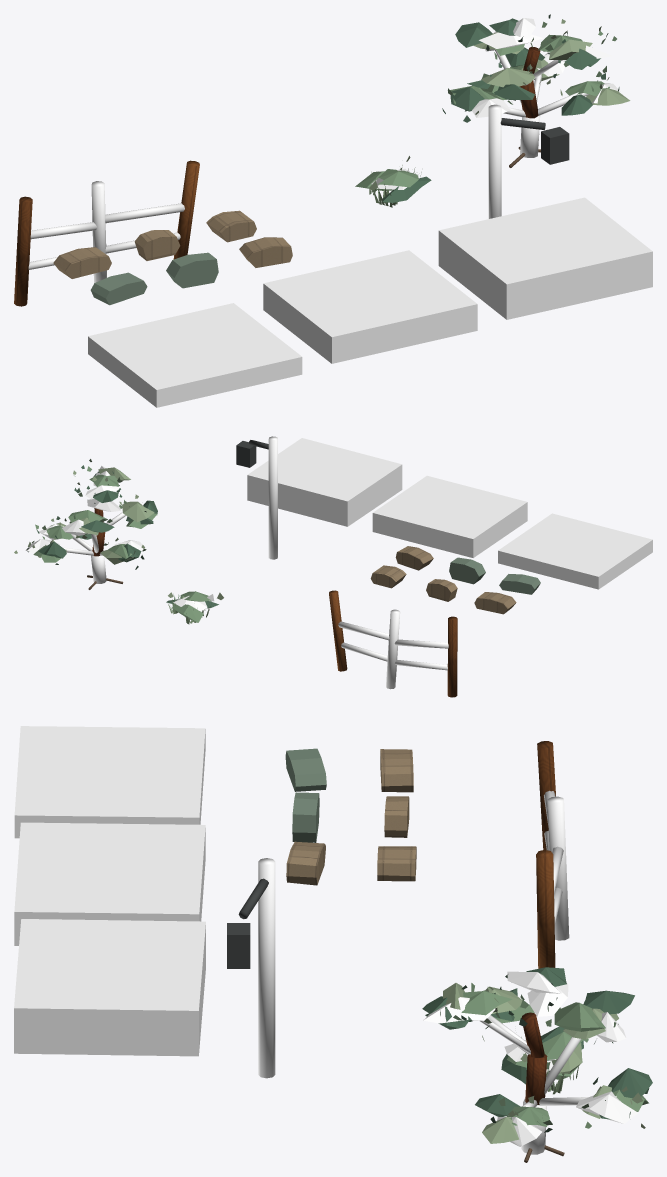
The model's file is stylized_exterior_environment_kit.glb.
The picture shows the model from 3 angles, top to bottom: view 1: azimuth 30°, elevation 25°; view 2: azimuth 150°, elevation 25°; view 3: azimuth 270°, elevation 25°; orthographic projection. The views are drawn at different scales.
Parts seen in each view (by area): view 1: envkit_terrain_tile_raised_bank_03, envkit_terrain_tile_raised_bank_02, envkit_terrain_tile_raised_bank_01, envkit_lamp_post_module_dark_wood_post, envkit_splitrail_module_leaning_fence_post_01, envkit_path_border_stone_variant_02, envkit_path_border_stone_variant_04, envkit_path_border_stone_variant_03, envkit_splitrail_module_leaning_fence_post_03, envkit_path_border_stone_variant_01, envkit_path_border_stone_variant_06, envkit_path_border_stone_variant_05 (+8 smaller); view 2: envkit_terrain_tile_raised_bank_03, envkit_terrain_tile_raised_bank_02, envkit_terrain_tile_raised_bank_01, envkit_lamp_post_module_dark_wood_post, envkit_splitrail_module_leaning_fence_post_01, envkit_splitrail_module_leaning_fence_post_02, envkit_splitrail_module_leaning_fence_post_03, envkit_path_border_stone_variant_02, envkit_path_border_stone_variant_04, envkit_path_border_stone_variant_03, envkit_path_border_stone_variant_01, envkit_path_border_stone_variant_06 (+3 smaller); view 3: envkit_terrain_tile_raised_bank_03, envkit_terrain_tile_raised_bank_02, envkit_terrain_tile_raised_bank_01, envkit_lamp_post_module_dark_wood_post, envkit_splitrail_module_leaning_fence_post_03, envkit_splitrail_module_leaning_fence_post_02, envkit_path_border_stone_variant_01, envkit_path_border_stone_variant_03, envkit_path_border_stone_variant_04, envkit_path_border_stone_variant_06, envkit_path_border_stone_variant_02, envkit_splitrail_module_leaning_fence_post_01 (+13 smaller).
Boxes of the visible parts, x1,y1,x2,y2 form: envkit_terrain_tile_raised_bank_03: [438, 197, 652, 319]; envkit_terrain_tile_raised_bank_02: [263, 250, 477, 363]; envkit_terrain_tile_raised_bank_01: [88, 303, 302, 407]; envkit_lamp_post_module_dark_wood_post: [488, 104, 501, 218]; envkit_splitrail_module_leaning_fence_post_01: [14, 196, 32, 306]; envkit_path_border_stone_variant_02: [166, 252, 218, 288]; envkit_path_border_stone_variant_04: [53, 247, 111, 278]; envkit_path_border_stone_variant_03: [239, 237, 292, 267]; envkit_splitrail_module_leaning_fence_post_03: [173, 160, 199, 259]; envkit_path_border_stone_variant_01: [90, 272, 147, 305]; envkit_path_border_stone_variant_06: [206, 210, 256, 242]; envkit_path_border_stone_variant_05: [134, 230, 180, 260]; envkit_terrain_tile_raised_bank_03: [247, 438, 402, 526]; envkit_terrain_tile_raised_bank_02: [372, 475, 527, 557]; envkit_terrain_tile_raised_bank_01: [498, 513, 652, 589]; envkit_lamp_post_module_dark_wood_post: [268, 436, 277, 559]; envkit_splitrail_module_leaning_fence_post_01: [447, 616, 457, 697]; envkit_splitrail_module_leaning_fence_post_02: [386, 609, 400, 689]; envkit_splitrail_module_leaning_fence_post_03: [329, 590, 347, 671]; envkit_path_border_stone_variant_02: [449, 557, 485, 584]; envkit_path_border_stone_variant_04: [474, 592, 516, 614]; envkit_path_border_stone_variant_03: [395, 546, 433, 570]; envkit_path_border_stone_variant_01: [499, 574, 540, 594]; envkit_path_border_stone_variant_06: [370, 565, 406, 588]; envkit_terrain_tile_raised_bank_03: [14, 919, 205, 1056]; envkit_terrain_tile_raised_bank_02: [14, 822, 205, 945]; envkit_terrain_tile_raised_bank_01: [14, 726, 205, 838]; envkit_lamp_post_module_dark_wood_post: [258, 858, 275, 1078]; envkit_splitrail_module_leaning_fence_post_03: [536, 849, 555, 968]; envkit_splitrail_module_leaning_fence_post_02: [547, 796, 569, 940]; envkit_path_border_stone_variant_01: [285, 748, 326, 791]; envkit_path_border_stone_variant_03: [286, 841, 325, 885]; envkit_path_border_stone_variant_04: [380, 749, 413, 792]; envkit_path_border_stone_variant_06: [377, 846, 416, 881]; envkit_path_border_stone_variant_02: [292, 792, 319, 842]; envkit_splitrail_module_leaning_fence_post_01: [537, 741, 555, 849].
Bounding box in the file's own units: 6.21 × 1.76 × 4.08.
Materials: 18 (4 with a texture image).
